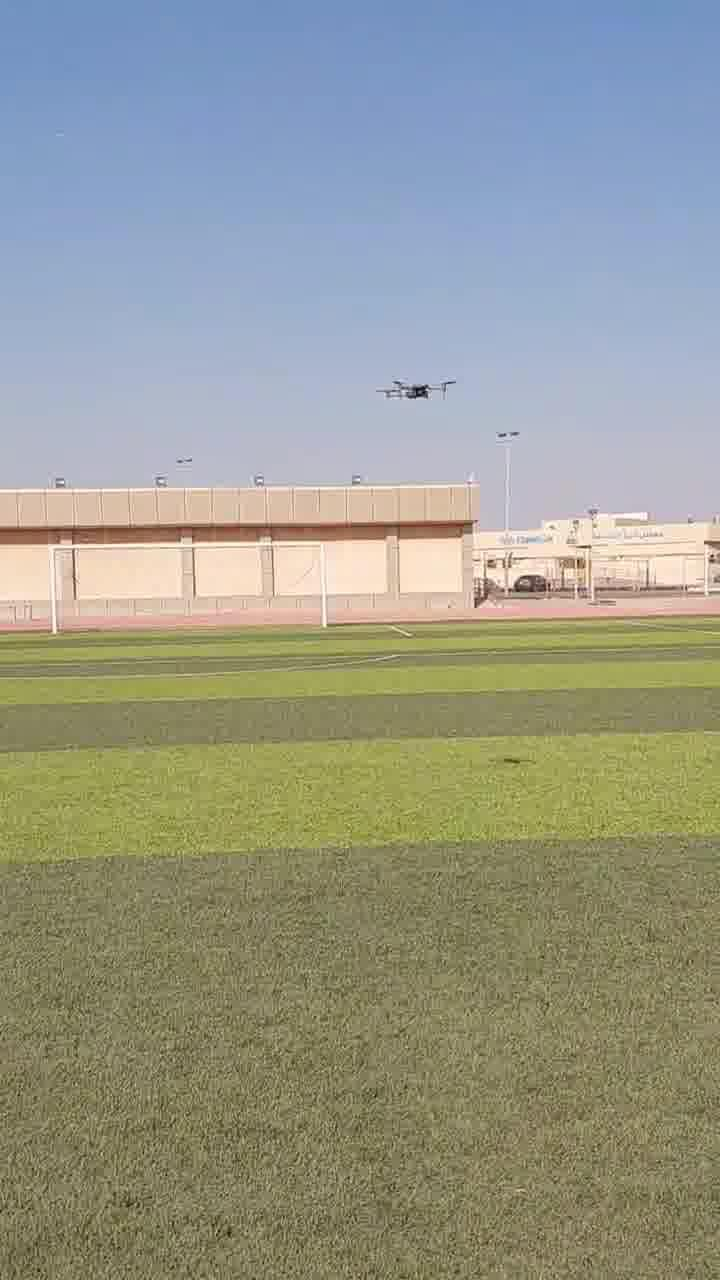drone: (368, 361, 459, 409)
